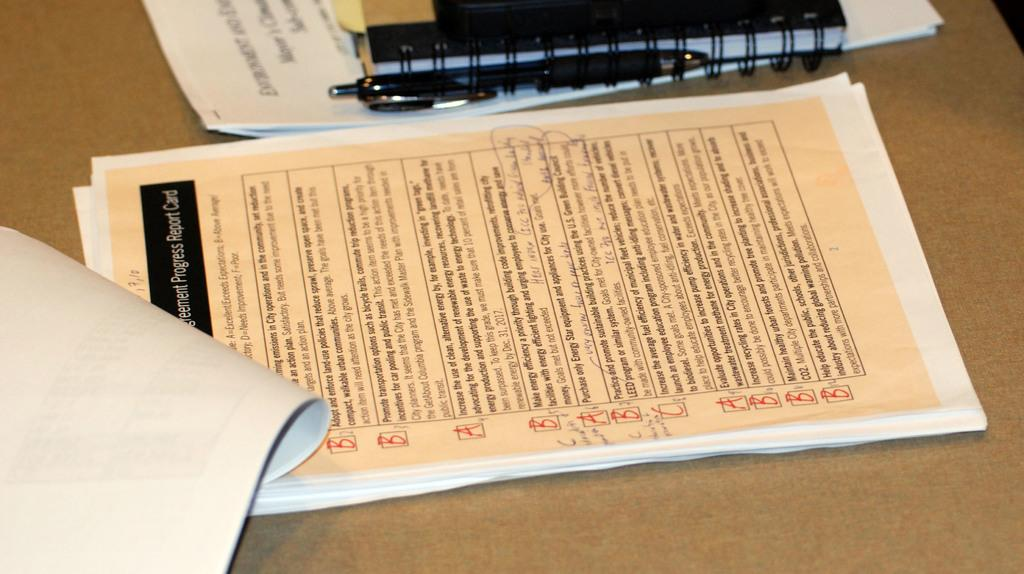Book: (70, 71, 988, 516)
